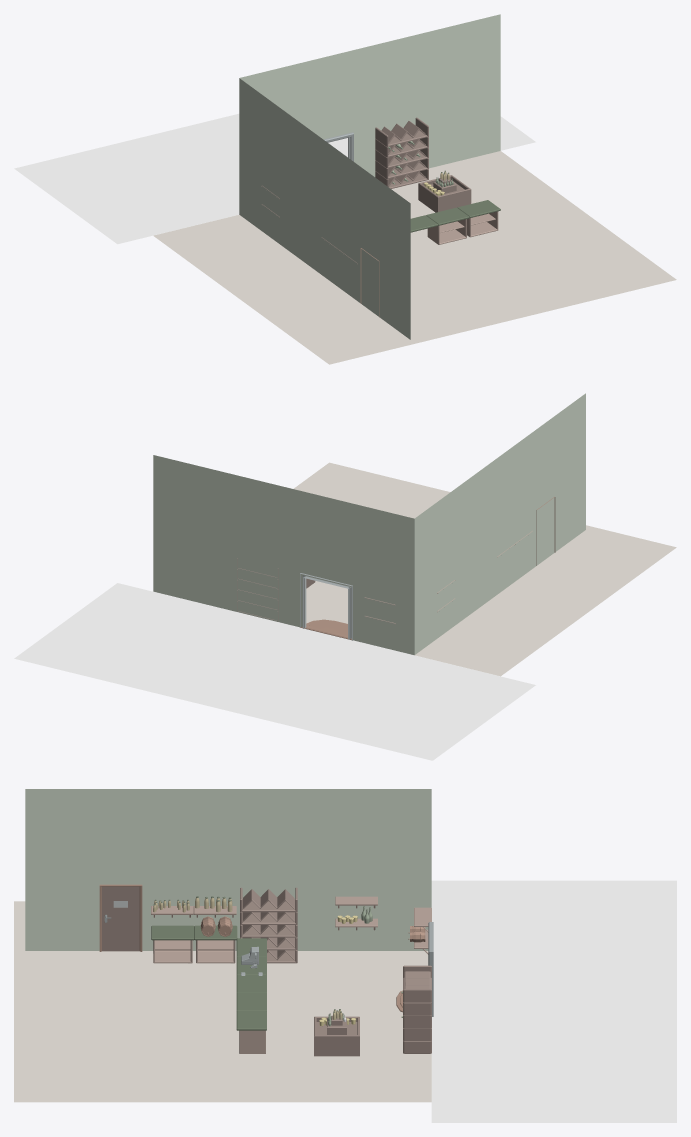
The model's file is SceneCommandeAnimee.fbx.
3 renders of one model, top to bottom at view 1: azimuth 30°, elevation 25°; view 2: azimuth 150°, elevation 25°; view 3: azimuth 270°, elevation 25°, orthographic. The views are drawn at different scales.
Parts seen in each view (by area): view 1: pPlane1, pCube1, pCube2, pPlane3, group6_pasted__pCube5, pasted__pCube1.001, polySurface20; view 2: pPlane3, pCube2, pCube1, pPlane1, pasted__pCube1.002; view 3: pPlane3, pPlane1, pCube1, group6_pasted__pCube6, group6_pasted__pCube5, polySurface26, pasted__pCube1.001, group10_pasted__pCube6, polySurface3, polySurface23, polySurface25, polySurface4 (+4 smaller).
Part boxes in pixels (x1,y1,x2,y2): pPlane1: [153, 151, 676, 364]; pCube1: [239, 78, 410, 339]; pCube2: [240, 14, 500, 176]; pPlane3: [14, 113, 535, 244]; group6_pasted__pCube5: [375, 117, 428, 188]; pasted__pCube1.001: [418, 175, 471, 212]; polySurface20: [427, 219, 466, 244]; pPlane3: [14, 583, 535, 760]; pCube2: [153, 455, 414, 655]; pCube1: [414, 393, 585, 654]; pPlane1: [293, 462, 676, 676]; pasted__pCube1.002: [300, 619, 351, 640]; pPlane3: [431, 880, 676, 1122]; pPlane1: [14, 901, 431, 1102]; pCube1: [25, 789, 431, 950]; group6_pasted__pCube6: [240, 887, 297, 963]; group6_pasted__pCube5: [403, 965, 431, 1053]; polySurface26: [102, 886, 139, 951]; pasted__pCube1.001: [314, 1015, 359, 1056]; group10_pasted__pCube6: [151, 896, 377, 930]; polySurface3: [151, 925, 194, 940]; polySurface23: [239, 1030, 265, 1053]; polySurface25: [236, 1011, 266, 1030]; polySurface4: [196, 940, 235, 963].
Size of the model in its own units: 1603 by 500 by 1855.
